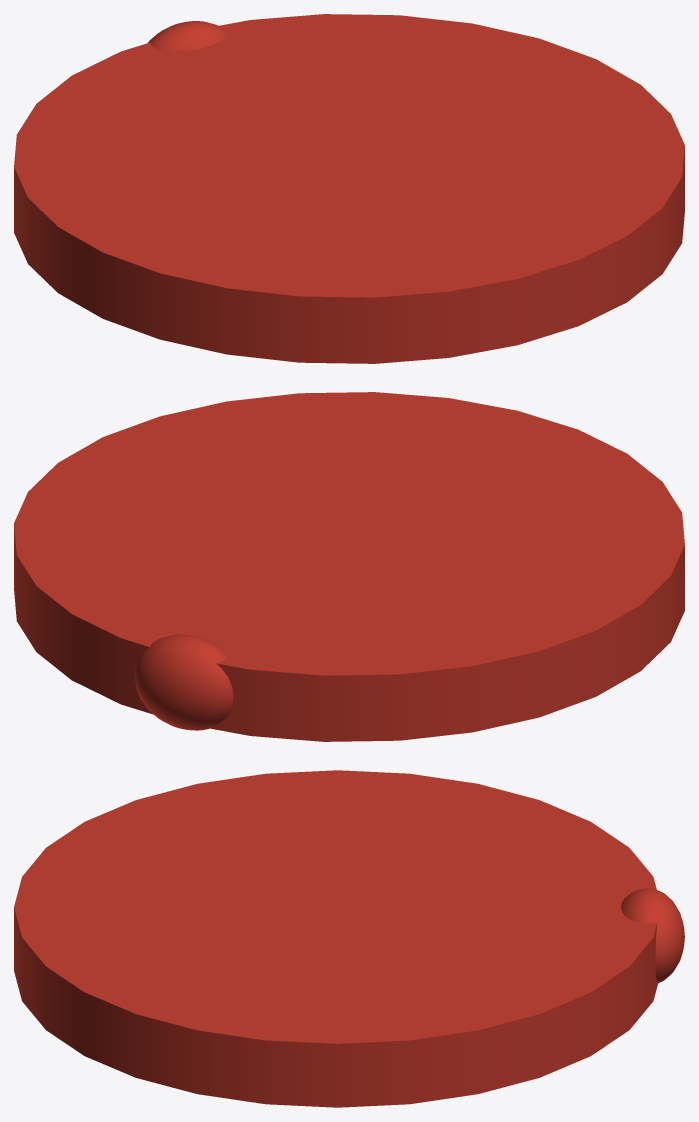
The model's file is hat_khan.glb.
3 renders of one model, top to bottom at view 1: azimuth 30°, elevation 25°; view 2: azimuth 150°, elevation 25°; view 3: azimuth 270°, elevation 25°, orthographic. The views are drawn at different scales.
Parts seen in each view (by area): view 1: Band, KnotK; view 2: Band, KnotK; view 3: Band, KnotK.
Boxes of the visible parts, left/top/right/bottom form: Band: left=14, top=14, right=684, bottom=363; KnotK: left=148, top=21, right=226, bottom=51; Band: left=14, top=392, right=684, bottom=741; KnotK: left=134, top=634, right=233, bottom=730; Band: left=14, top=770, right=657, bottom=1107; KnotK: left=621, top=888, right=684, bottom=983.
Bounding box in the file's own units: 0.69 × 0.1 × 0.715.
